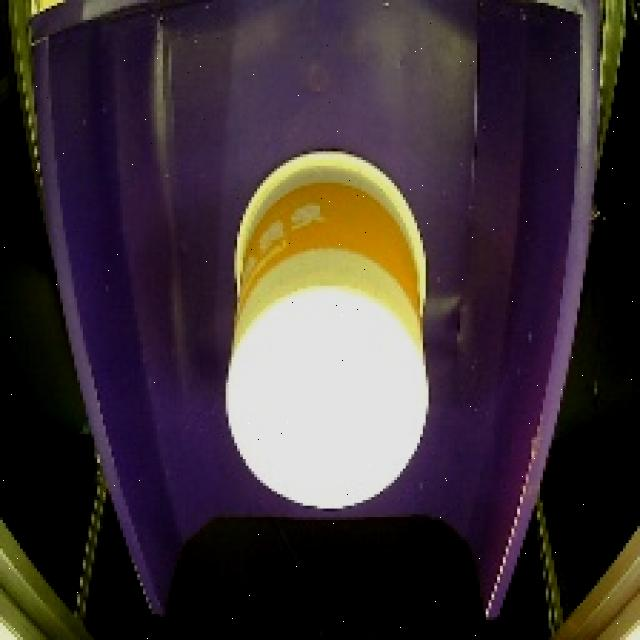cups: (215, 144, 443, 520)
